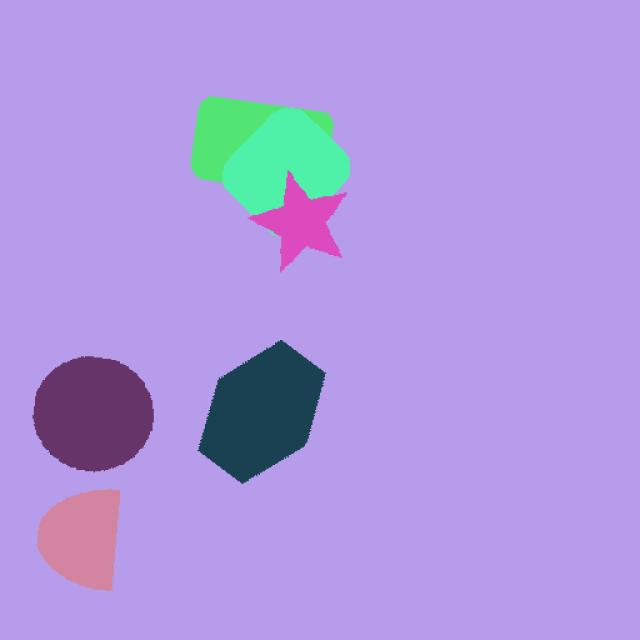Circle: (15, 325, 182, 475)
Hexagon: (182, 330, 349, 492)
Rectangle: (185, 92, 336, 190)
Semicircle: (39, 475, 142, 594)
Star: (244, 172, 353, 272)
square: (220, 104, 356, 225)
